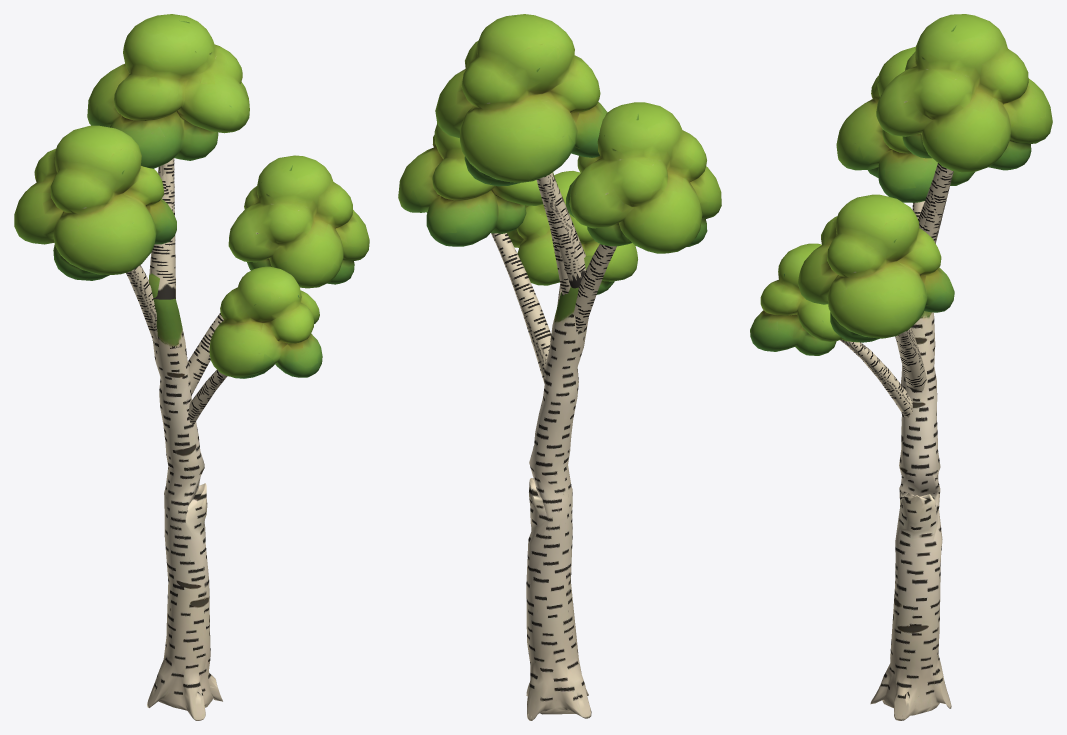
Rendered from birch_tree_v4.glb.
3 views of the same model, side by side, from view 1: azimuth 30°, elevation 25°; view 2: azimuth 150°, elevation 25°; view 3: azimuth 270°, elevation 25° (orthographic). The views are drawn at different scales.
Parts seen in each view (by area): view 1: birch_tree_v2; view 2: birch_tree_v2; view 3: birch_tree_v2.
Part boxes in pixels (x1,y1,x2,y2): birch_tree_v2: (14, 14, 369, 720); birch_tree_v2: (398, 14, 721, 720); birch_tree_v2: (750, 14, 1052, 720).
Size of the model in its own units: 5.01 by 10.27 by 4.09.
1 material, 1 textured.
